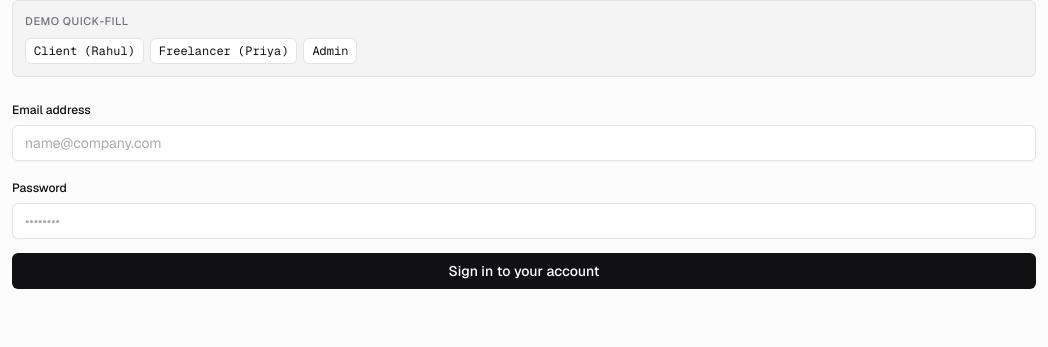
Test: LoginForm validation and interactions › validates invalid email format and short password
The width and height of the screenshot is (1048, 347).
Step 1. Type "notanemail" into the field labelled "Email address" → (524, 142), box [12, 124, 1036, 160]
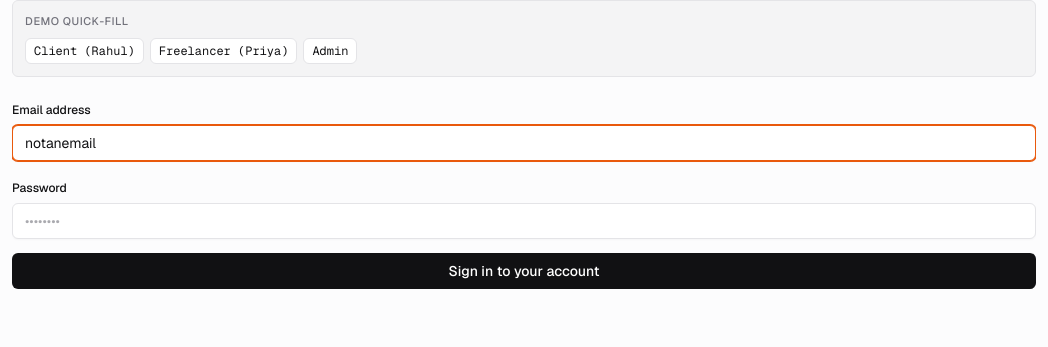
Step 2. Type "123" into the password field labelled "Password" → (524, 220), box [12, 202, 1036, 238]
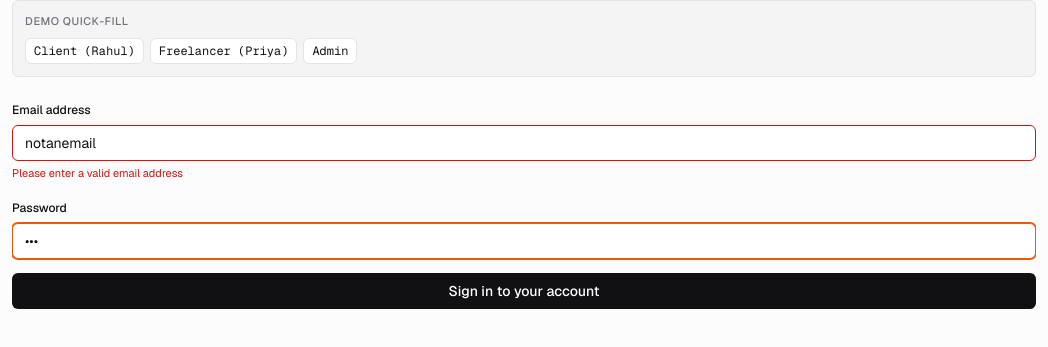
Step 3. Click the button "Sign in to your account" → (524, 291), box [12, 273, 1036, 309]
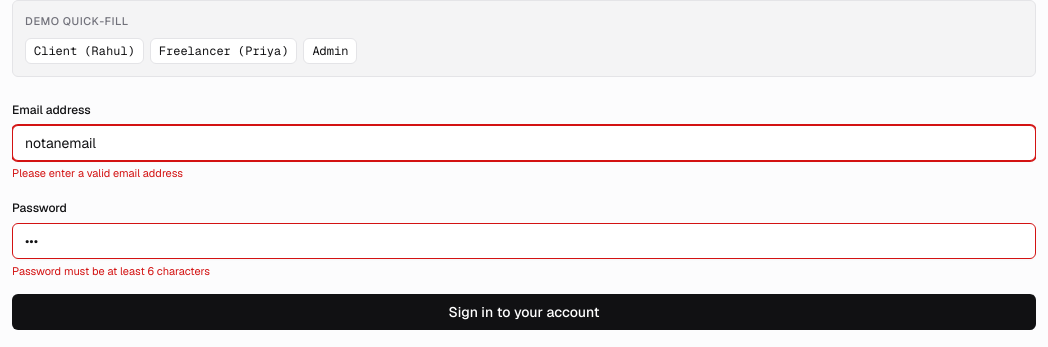
Check: the text "Please enter a valid email address" is shown, box [12, 166, 183, 180]
Check: the text "Password must be at least 6 characters" is shown, box [12, 264, 210, 278]
